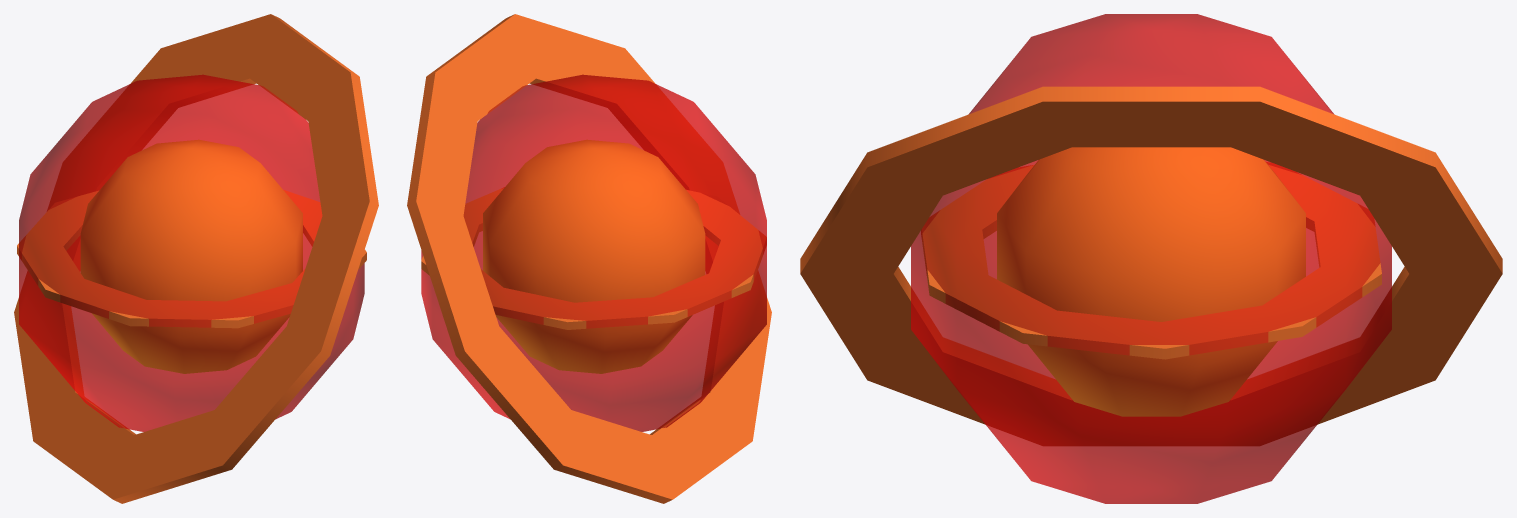
File: Enemy_Attack1.obj
3 renders of one model, left to right at view 1: azimuth 30°, elevation 25°; view 2: azimuth 150°, elevation 25°; view 3: azimuth 270°, elevation 25°, orthographic. The views are drawn at different scales.
Visible parts, largest first — view 1: Sphere002, Tube001, Sphere001, Tube002; view 2: Sphere002, Tube001, Sphere001, Tube002; view 3: Sphere002, Tube001, Sphere001, Tube002.
Part boxes in pixels (left/top/right/bottom): Sphere002: left=19, top=74, right=364, bottom=431; Tube001: left=14, top=14, right=378, bottom=503; Sphere001: left=80, top=139, right=302, bottom=373; Tube002: left=17, top=190, right=366, bottom=328; Sphere002: left=421, top=74, right=766, bottom=431; Tube001: left=407, top=14, right=771, bottom=503; Sphere001: left=483, top=139, right=705, bottom=373; Tube002: left=421, top=187, right=766, bottom=329; Sphere002: left=911, top=14, right=1391, bottom=503; Tube001: left=800, top=86, right=1502, bottom=445; Sphere001: left=997, top=147, right=1305, bottom=416; Tube002: left=921, top=162, right=1381, bottom=359.
Size of the model in its own units: 21.49 by 25.48 by 31.73.
